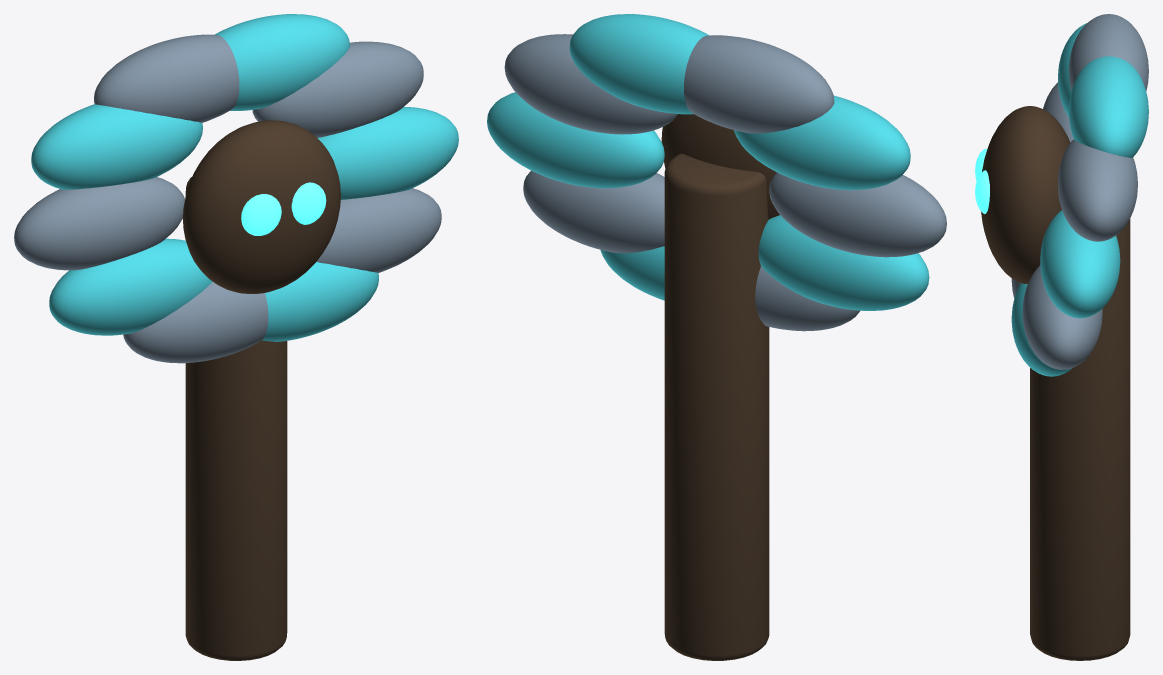
Rendered from plant_v2.glb.
3 views of the same model, side by side, from view 1: azimuth 30°, elevation 25°; view 2: azimuth 150°, elevation 25°; view 3: azimuth 270°, elevation 25° (orthographic). The views are drawn at different scales.
Visible parts, largest first — view 1: FLOWER_STEM_SECONDARY, FLOWER_MAW_SECONDARY, FLOWER_PETAL_PRIMARY.002, FLOWER_PETAL_ACCENT.002, FLOWER_PETAL_ACCENT.003, FLOWER_PETAL_PRIMARY.001, FLOWER_PETAL_PRIMARY, FLOWER_PETAL_ACCENT, FLOWER_PETAL_ACCENT.001, FLOWER_PETAL_PRIMARY.003, FLOWER_PETAL_PRIMARY.004, FLOWER_PETAL_ACCENT.004 (+2 smaller); view 2: FLOWER_STEM_SECONDARY, FLOWER_PETAL_PRIMARY.001, FLOWER_PETAL_PRIMARY.002, FLOWER_PETAL_ACCENT.002, FLOWER_PETAL_ACCENT, FLOWER_PETAL_ACCENT.001, FLOWER_PETAL_ACCENT.003, FLOWER_PETAL_PRIMARY.004, FLOWER_PETAL_PRIMARY, FLOWER_MAW_SECONDARY, FLOWER_PETAL_PRIMARY.003, FLOWER_PETAL_ACCENT.004; view 3: FLOWER_STEM_SECONDARY, FLOWER_MAW_SECONDARY, FLOWER_PETAL_ACCENT.001, FLOWER_PETAL_PRIMARY, FLOWER_PETAL_ACCENT, FLOWER_PETAL_PRIMARY.004, FLOWER_PETAL_PRIMARY.001, FLOWER_PETAL_ACCENT.004, FLOWER_PETAL_ACCENT.002, FLOWER_PETAL_PRIMARY.002, EYE_EMISSIVE.001.
Boxes of the visible parts, x1,y1,x2,y2 form: FLOWER_STEM_SECONDARY: [185, 177, 287, 660]; FLOWER_MAW_SECONDARY: [183, 120, 340, 293]; FLOWER_PETAL_PRIMARY.002: [14, 177, 184, 270]; FLOWER_PETAL_ACCENT.002: [31, 104, 202, 189]; FLOWER_PETAL_ACCENT.003: [49, 238, 212, 335]; FLOWER_PETAL_PRIMARY.001: [94, 34, 239, 122]; FLOWER_PETAL_PRIMARY: [252, 41, 423, 137]; FLOWER_PETAL_ACCENT: [317, 107, 458, 199]; FLOWER_PETAL_ACCENT.001: [215, 14, 349, 110]; FLOWER_PETAL_PRIMARY.003: [123, 282, 268, 363]; FLOWER_PETAL_PRIMARY.004: [316, 188, 441, 272]; FLOWER_PETAL_ACCENT.004: [262, 262, 378, 341]; FLOWER_STEM_SECONDARY: [664, 153, 769, 660]; FLOWER_PETAL_PRIMARY.001: [684, 35, 834, 133]; FLOWER_PETAL_PRIMARY.002: [769, 172, 946, 257]; FLOWER_PETAL_ACCENT.002: [734, 95, 910, 190]; FLOWER_PETAL_ACCENT: [487, 92, 664, 188]; FLOWER_PETAL_ACCENT.001: [569, 14, 709, 114]; FLOWER_PETAL_ACCENT.003: [758, 215, 929, 310]; FLOWER_PETAL_PRIMARY.004: [523, 170, 664, 253]; FLOWER_PETAL_PRIMARY: [504, 34, 678, 134]; FLOWER_MAW_SECONDARY: [661, 114, 779, 219]; FLOWER_PETAL_PRIMARY.003: [755, 266, 860, 331]; FLOWER_PETAL_ACCENT.004: [600, 246, 664, 300]; FLOWER_STEM_SECONDARY: [1030, 218, 1130, 660]; FLOWER_MAW_SECONDARY: [981, 106, 1070, 283]; FLOWER_PETAL_ACCENT.001: [1068, 56, 1148, 157]; FLOWER_PETAL_PRIMARY: [1058, 139, 1137, 241]; FLOWER_PETAL_ACCENT: [1040, 210, 1120, 318]; FLOWER_PETAL_PRIMARY.004: [1022, 265, 1102, 369]; FLOWER_PETAL_PRIMARY.001: [1068, 14, 1148, 91]; FLOWER_PETAL_ACCENT.004: [1011, 283, 1071, 376]; FLOWER_PETAL_ACCENT.002: [1058, 23, 1086, 116]; FLOWER_PETAL_PRIMARY.002: [1043, 82, 1073, 142]; EYE_EMISSIVE.001: [975, 170, 989, 213].
Size of the model in its own units: 2 by 2.61 by 0.6941.
